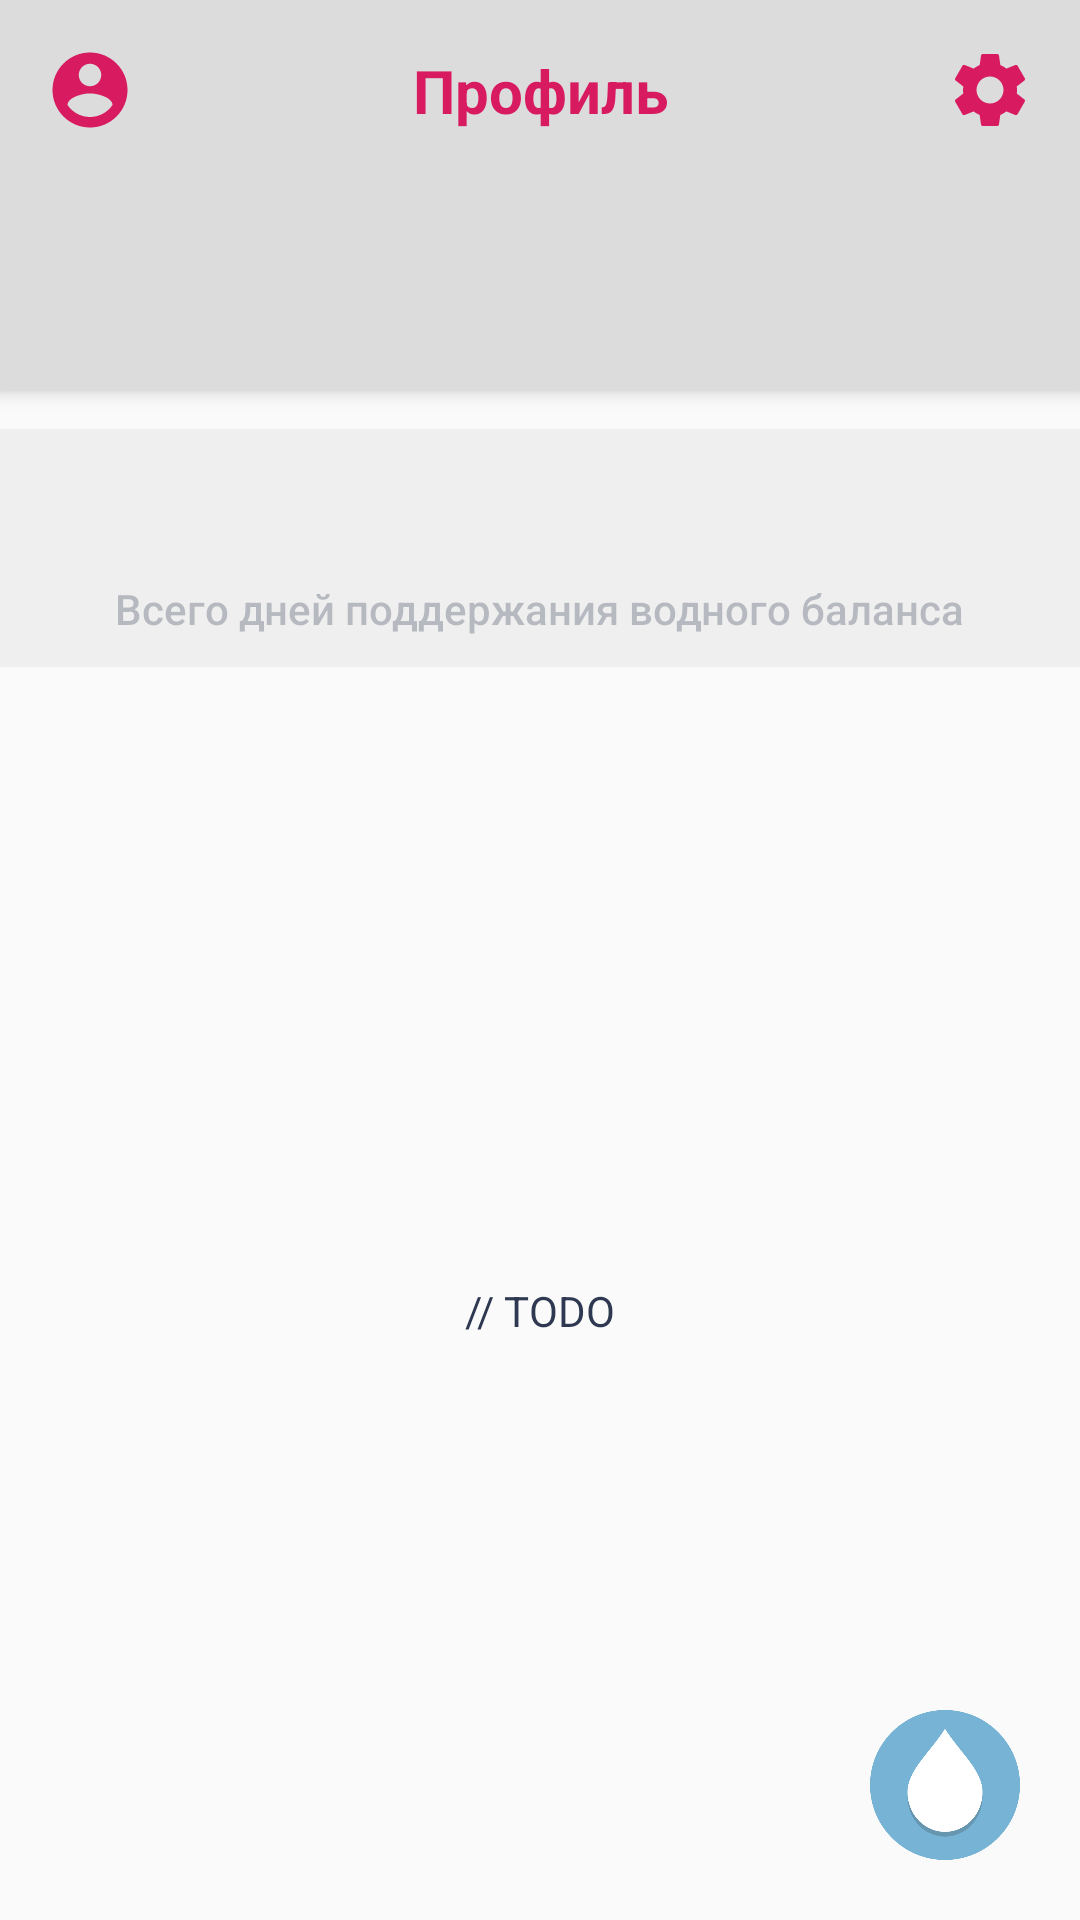

Icon bounding boxes for this 1080w x 1920h phone screenshot, format (x1, y1, x2, y2):
account: (52, 52, 128, 128)
settings: (955, 54, 1025, 126)
